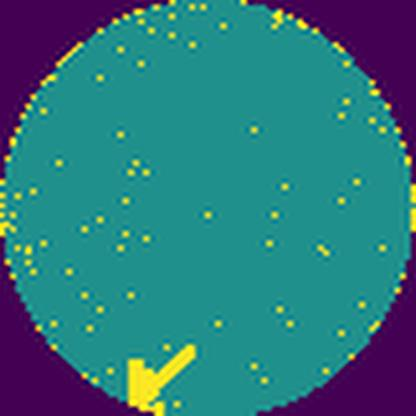Loc: (126, 341, 201, 416)
